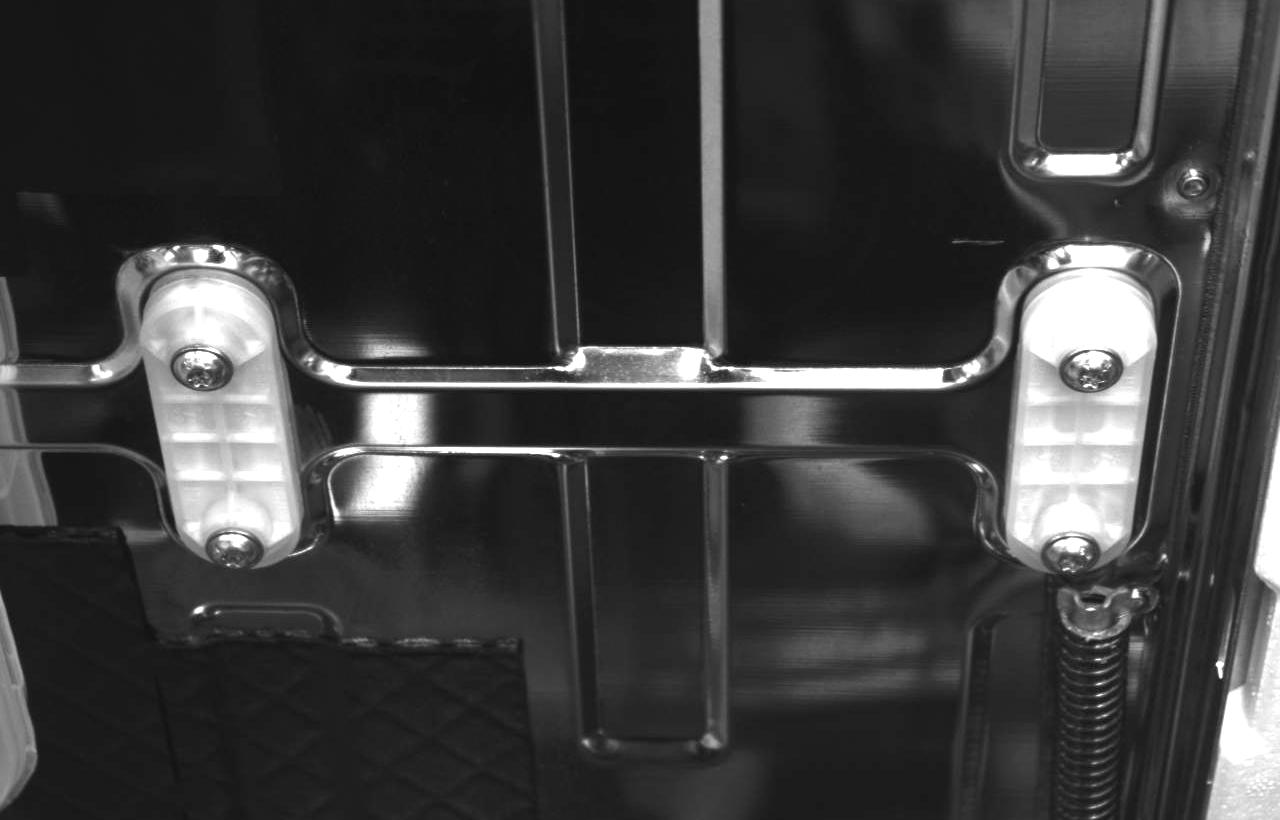vida-ok: (161, 335, 233, 402), (1059, 341, 1126, 408), (201, 515, 267, 574), (1034, 525, 1100, 584)
